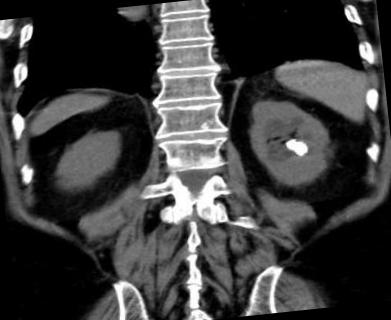Tas_Var: (281, 133, 312, 160)
